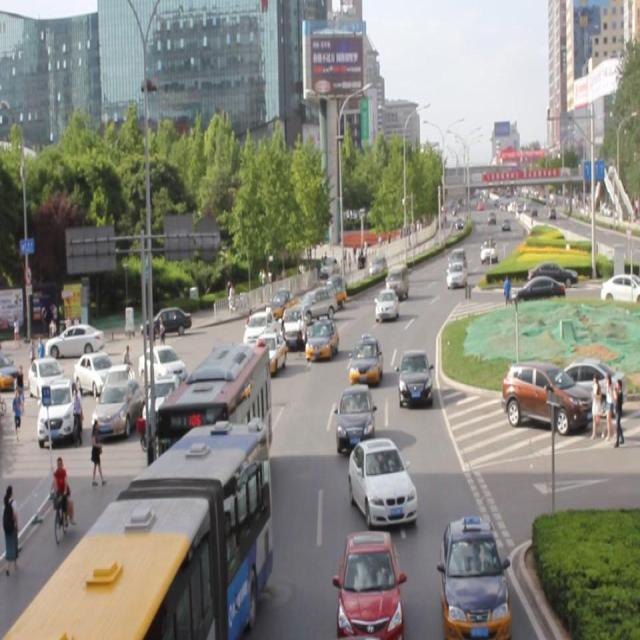car: (441, 518, 509, 640), (338, 527, 402, 640), (349, 437, 416, 524), (337, 384, 372, 449), (399, 350, 431, 405), (250, 329, 288, 375), (211, 345, 245, 395), (304, 316, 338, 362), (348, 336, 380, 383), (243, 308, 276, 349), (311, 279, 348, 315), (278, 304, 307, 348), (295, 288, 335, 318), (374, 288, 398, 321)
truck: (385, 262, 407, 297)
van: (1, 424, 271, 640), (155, 344, 272, 491)
